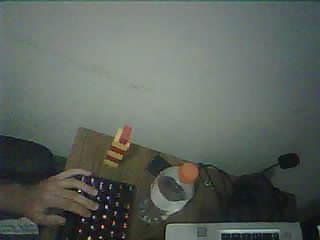lego: (103, 124, 132, 168)
